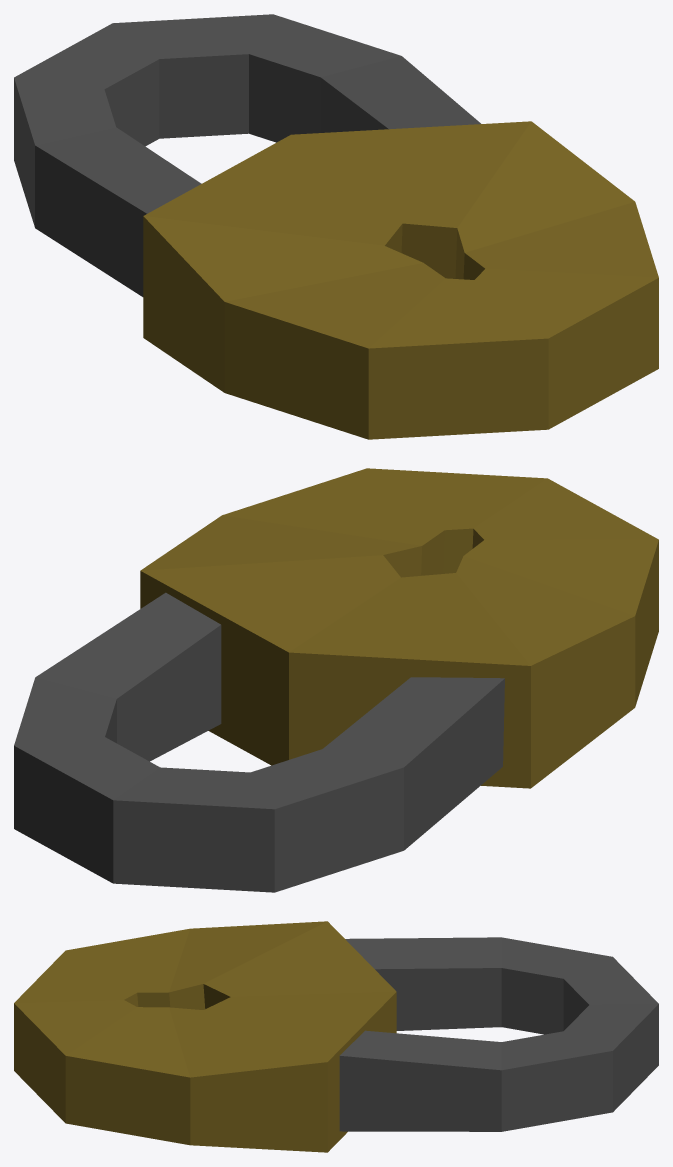
The model's file is keylock01.obj.
3 views of the same model, one above another, from view 1: azimuth 30°, elevation 25°; view 2: azimuth 150°, elevation 25°; view 3: azimuth 270°, elevation 25° (orthographic). The views are drawn at different scales.
Visible parts, largest first — view 1: Cylinder.002_Cylinder.003; view 2: Cylinder.002_Cylinder.003; view 3: Cylinder.002_Cylinder.003.
Boxes of the visible parts, left/top/right/bottom form: Cylinder.002_Cylinder.003: left=14, top=14, right=658, bottom=439; Cylinder.002_Cylinder.003: left=14, top=468, right=658, bottom=892; Cylinder.002_Cylinder.003: left=14, top=921, right=658, bottom=1152.
Size of the model in its own units: 0.1033 by 0.0293 by 0.1891.
